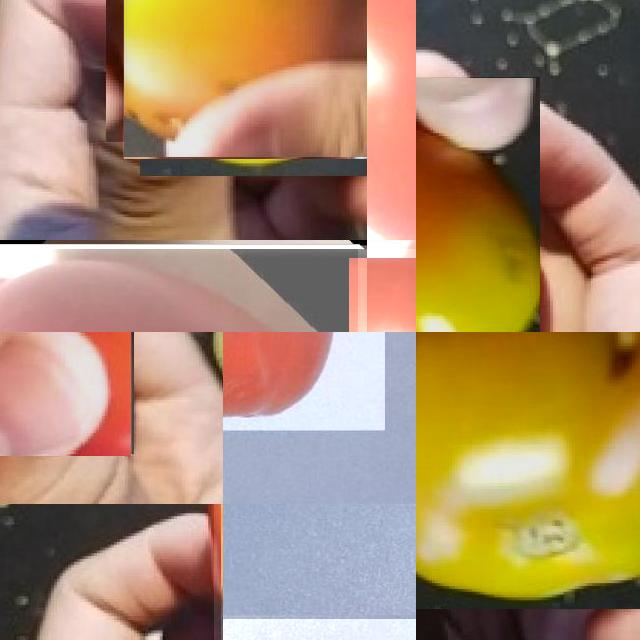Fresh Tomato: (0, 245, 367, 332), (0, 332, 131, 456), (223, 332, 385, 430)
Rotten Tomato: (416, 332, 640, 609), (123, 0, 367, 159), (416, 77, 539, 332)
